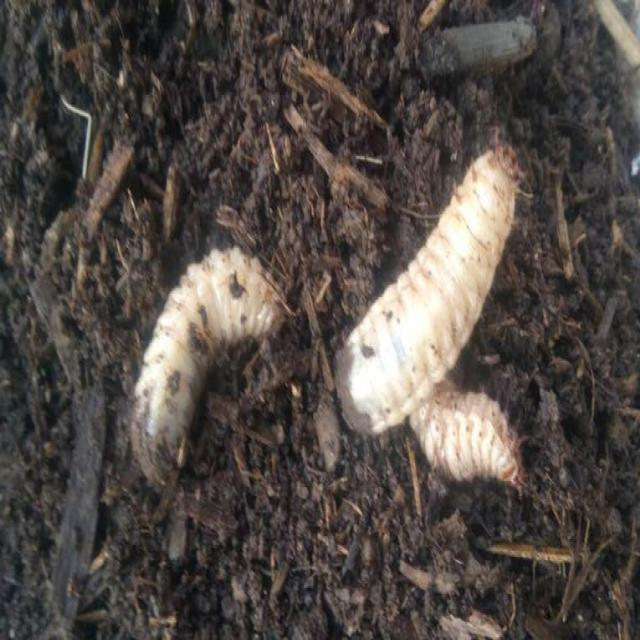Grub-Adult-: (329, 125, 538, 444), (122, 225, 296, 484)
